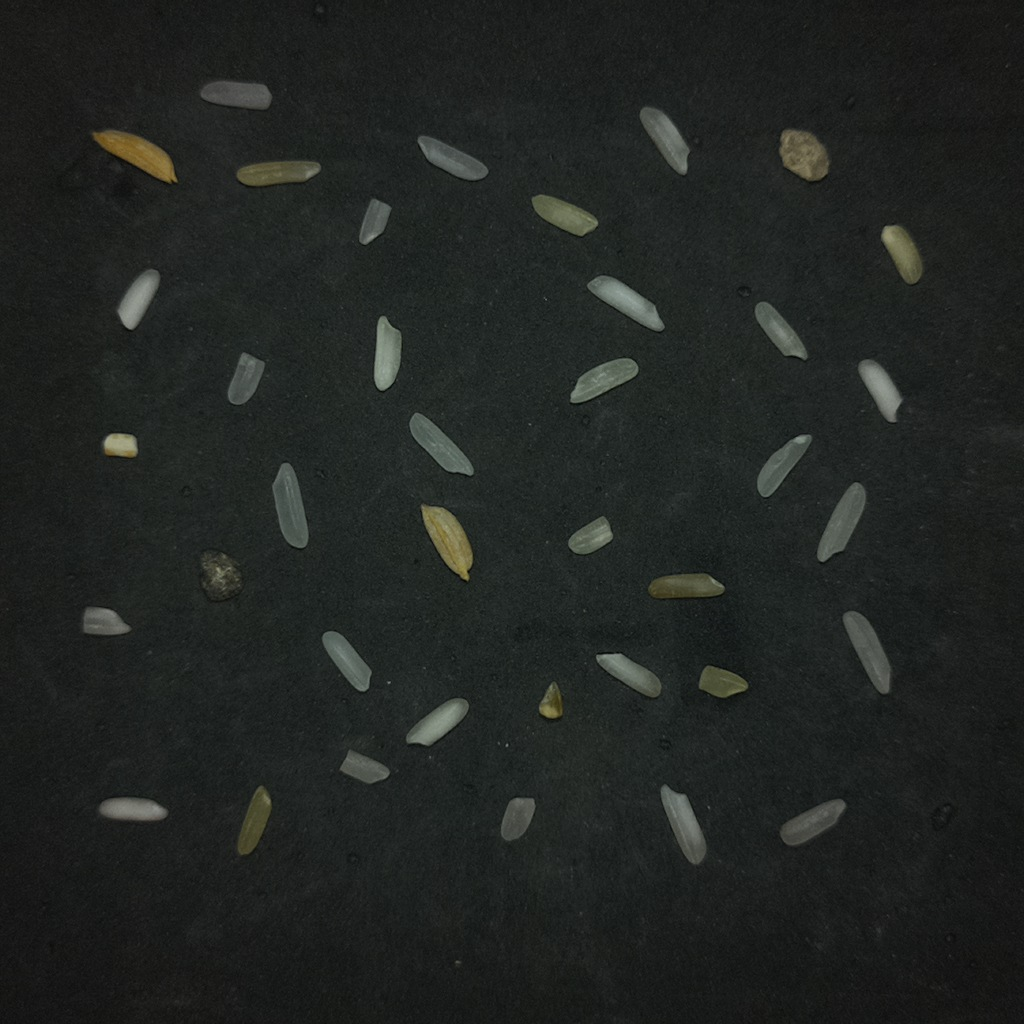broken: (596, 654, 661, 697), (227, 352, 264, 405), (339, 749, 389, 783), (568, 516, 612, 554), (500, 797, 535, 841), (359, 198, 391, 244), (82, 606, 130, 635)
chalky: (587, 275, 663, 331), (406, 698, 468, 745), (858, 359, 901, 422), (117, 268, 159, 329), (374, 315, 401, 391), (98, 797, 167, 822), (103, 433, 137, 458)
discolored: (421, 505, 472, 581), (531, 194, 597, 236), (881, 225, 922, 284), (237, 785, 270, 855), (236, 160, 320, 186), (648, 573, 724, 598), (699, 665, 748, 698), (538, 683, 563, 719)
foreign: (779, 129, 829, 181), (200, 549, 242, 601)
paddy: (92, 130, 176, 182)
whole: (409, 412, 473, 475), (844, 611, 891, 694), (817, 482, 865, 562), (660, 785, 706, 865), (757, 434, 811, 497), (641, 107, 688, 174), (417, 136, 487, 180), (755, 301, 807, 360), (780, 799, 846, 845), (570, 358, 637, 403), (273, 463, 308, 548), (322, 631, 371, 691), (200, 80, 271, 109)
